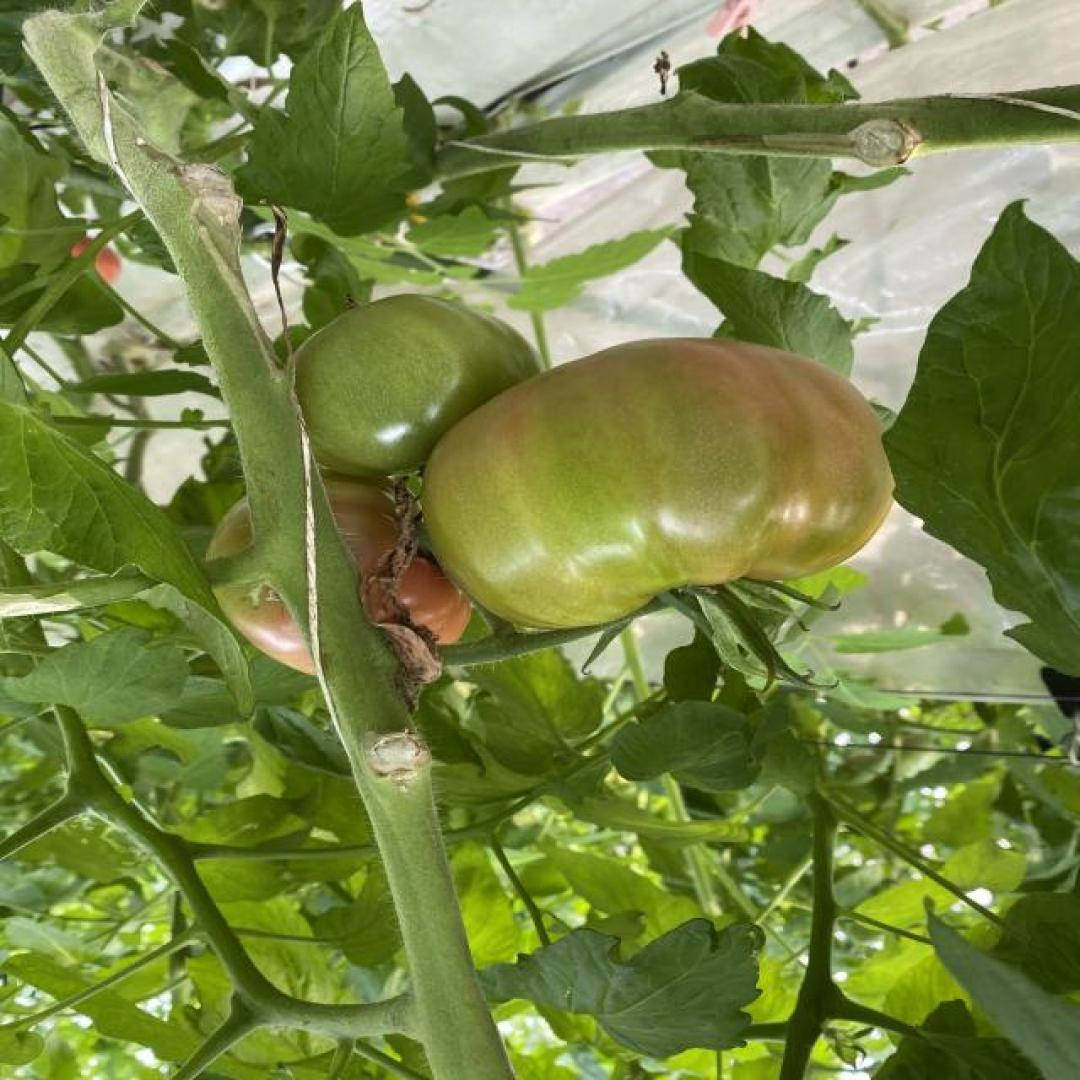mentah: (415, 329, 893, 641), (269, 292, 548, 488)
setengah_matang: (199, 462, 481, 686)
